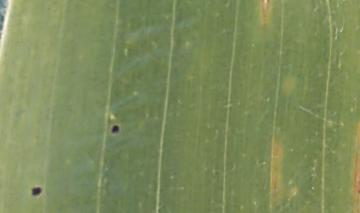tarspot: (30, 185, 42, 197), (110, 124, 120, 133), (356, 187, 360, 197), (265, 1, 270, 4)
